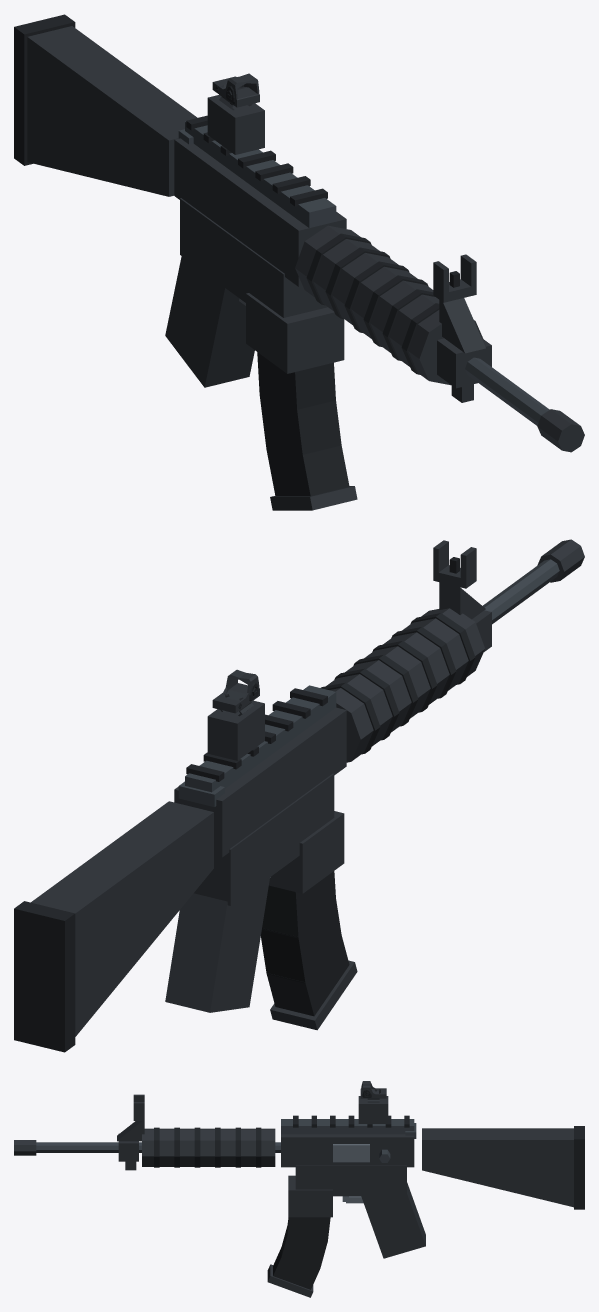
The model's file is wpn_m16_reddot.fbx.
3 renders of one model, top to bottom at view 1: azimuth 30°, elevation 25°; view 2: azimuth 150°, elevation 25°; view 3: azimuth 270°, elevation 25°, orthographic. The views are drawn at different scales.
Parts seen in each view (by area): view 1: wpn_m16_reddot; view 2: wpn_m16_reddot; view 3: wpn_m16_reddot.
Part boxes in pixels (bbox=[...]): wpn_m16_reddot: bbox=[14, 14, 584, 510]; wpn_m16_reddot: bbox=[14, 539, 584, 1052]; wpn_m16_reddot: bbox=[14, 1081, 584, 1297].
Bounding box in the file's own units: 25.5 × 124 × 308.
